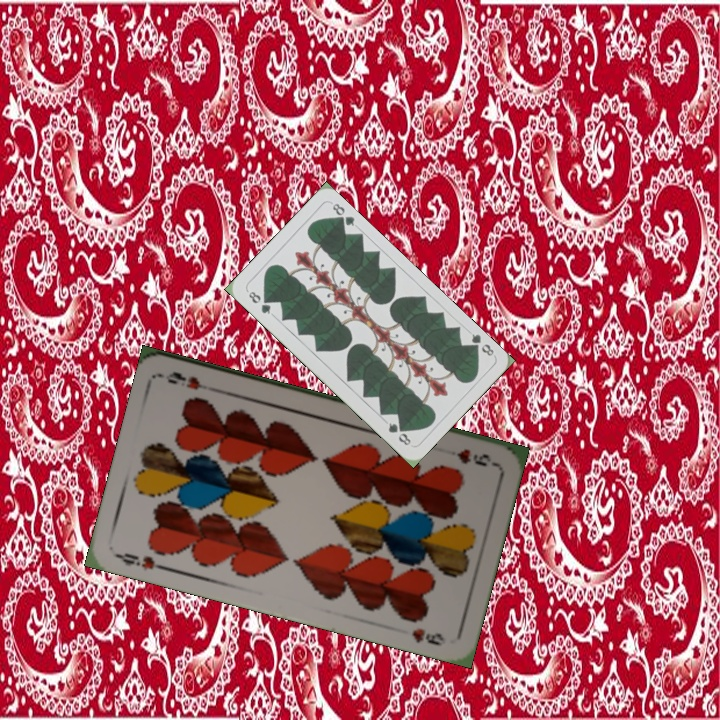G8: (465, 329, 496, 359), (244, 287, 274, 317)
H9: (112, 548, 170, 574), (453, 444, 498, 469)
